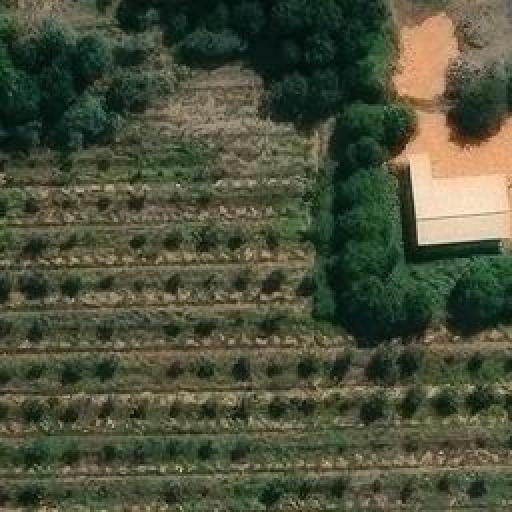manzanas: (389, 148, 510, 265)
